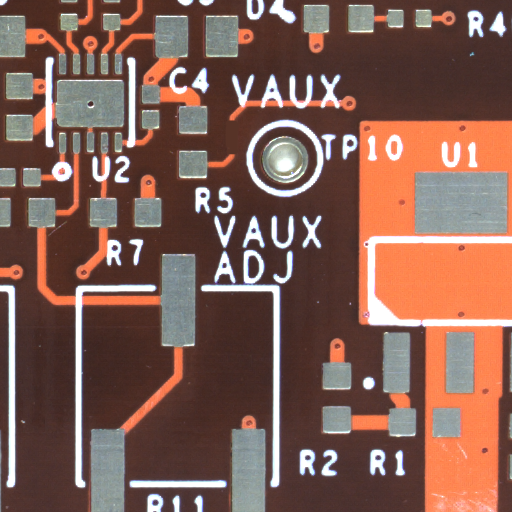Open_circuit: (231, 136, 246, 177)
